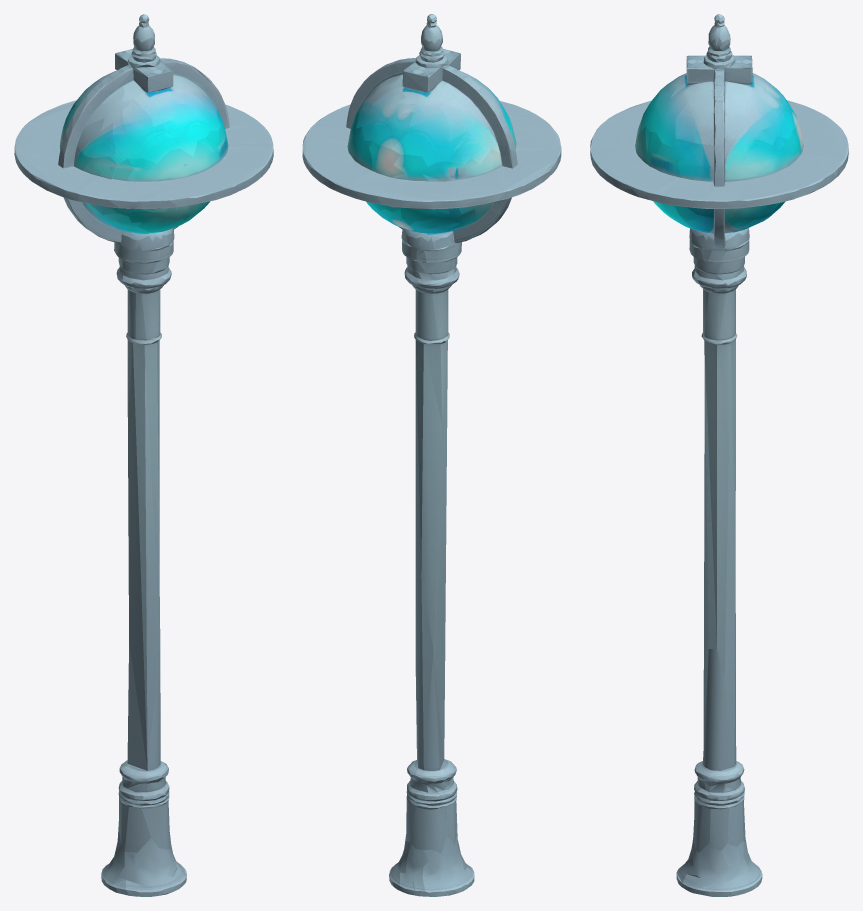
The model's file is street-lamp.glb.
The picture shows the model from 3 angles, left to right: view 1: azimuth 30°, elevation 25°; view 2: azimuth 150°, elevation 25°; view 3: azimuth 270°, elevation 25°; orthographic projection.
Bounding box in the file's own units: 0.5163 × 1.9 × 0.5152.
1 material, 1 textured.
